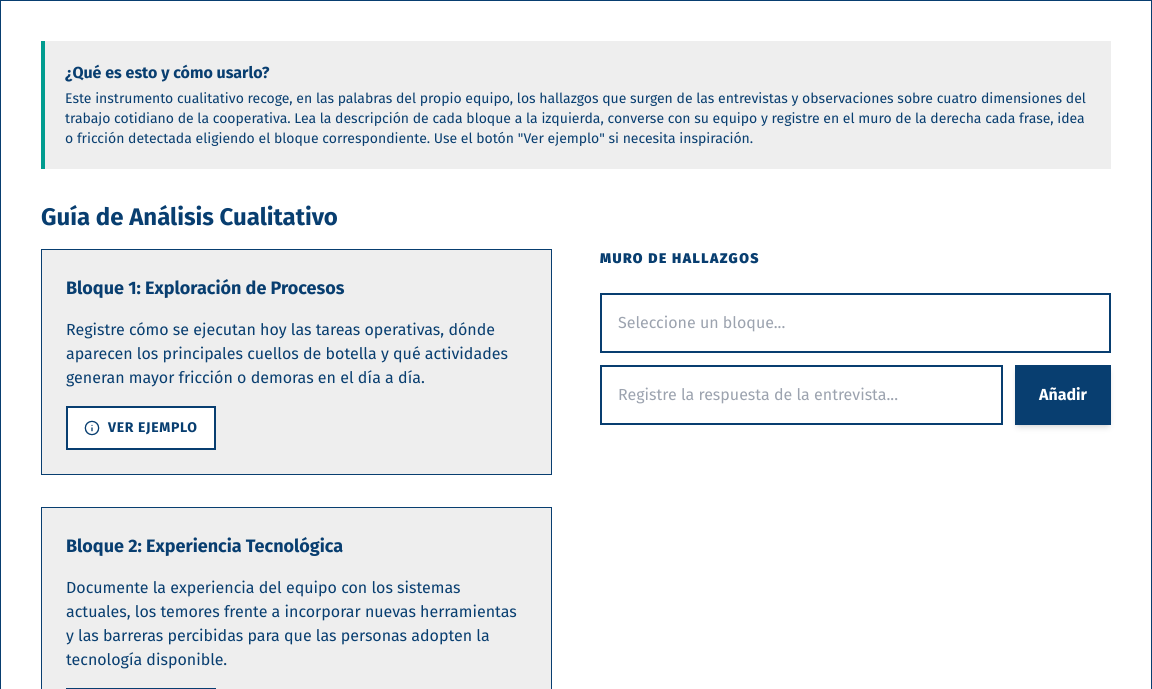
Scenario: TabAnalisis - muro de hallazgos con bloque › limpia el texto pero conserva el bloque para agregar más al mismo bloque
The width and height of the screenshot is (1152, 689).
Step 1. Click the dropdown labelled "Seleccione un bloque..." → {"x": 856, "y": 323}, box [600,293,1111,353]
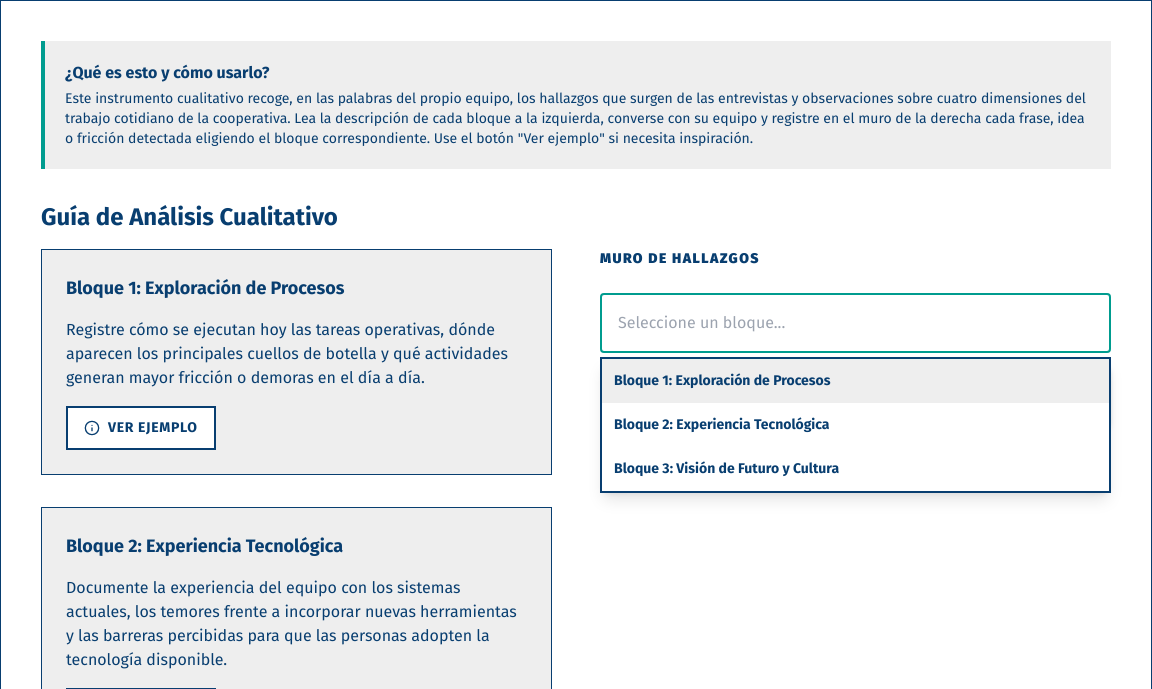
Step 2. Click the option "Bloque 3: Visión de Futuro y Cultura" → {"x": 727, "y": 468}, box [614,460,839,477]
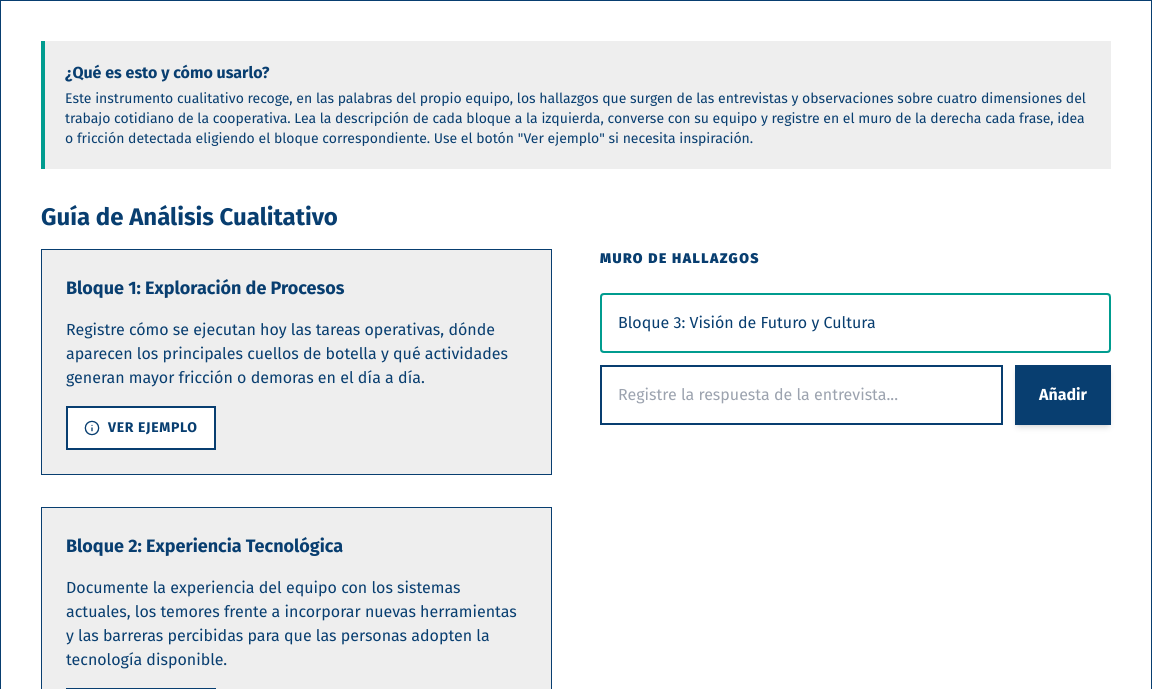
Step 3. Type "Uno" into the field with placeholder "Registre la respuesta de la entrevista..." → {"x": 802, "y": 395}, box [600,365,1003,425]
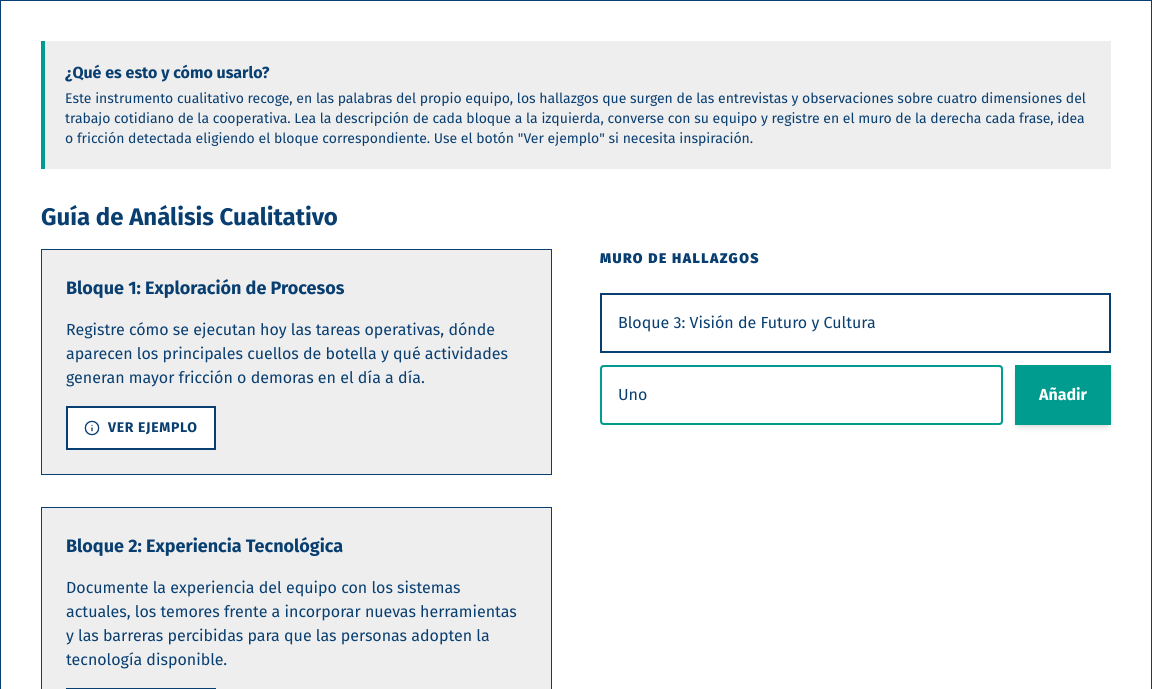
Step 4. Click the button "Añadir" → {"x": 1063, "y": 395}, box [1015,365,1111,425]
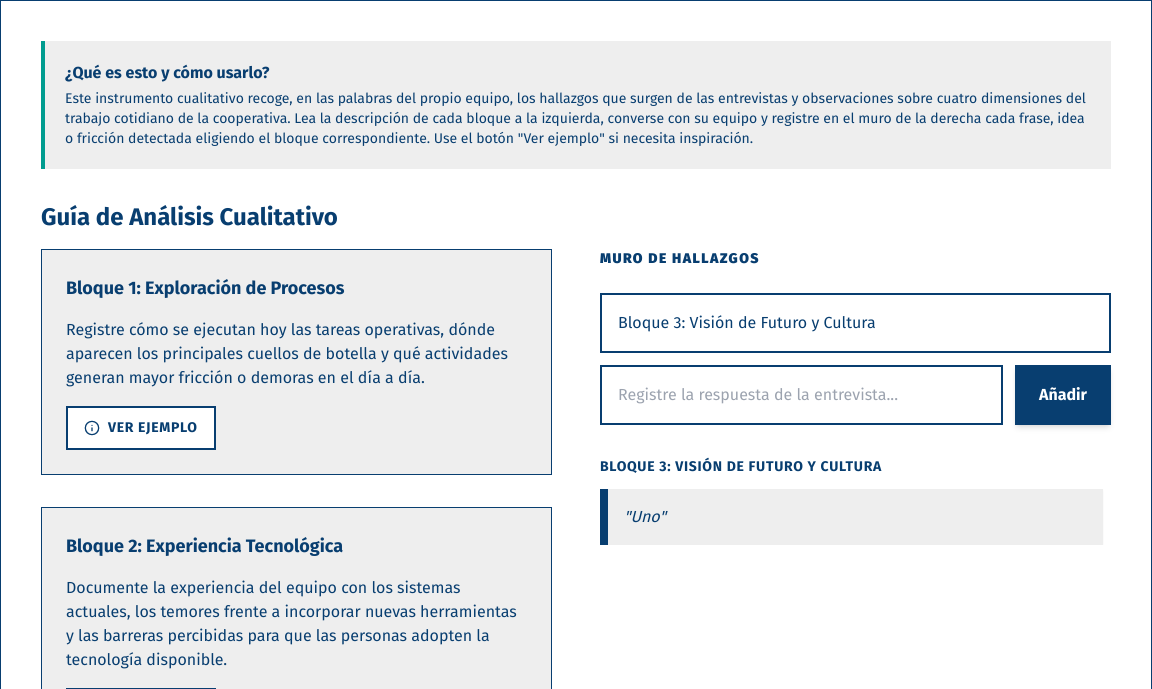
Expected: the field with placeholder "Registre la respuesta de la entrevista..." is empty
// Tipeando nuevo texto, sin reseleccionar bloque, se vuelve a habilitar
Step 5. Type "Dos" into the field with placeholder "Registre la respuesta de la entrevista..." → {"x": 802, "y": 395}, box [600,365,1003,425]
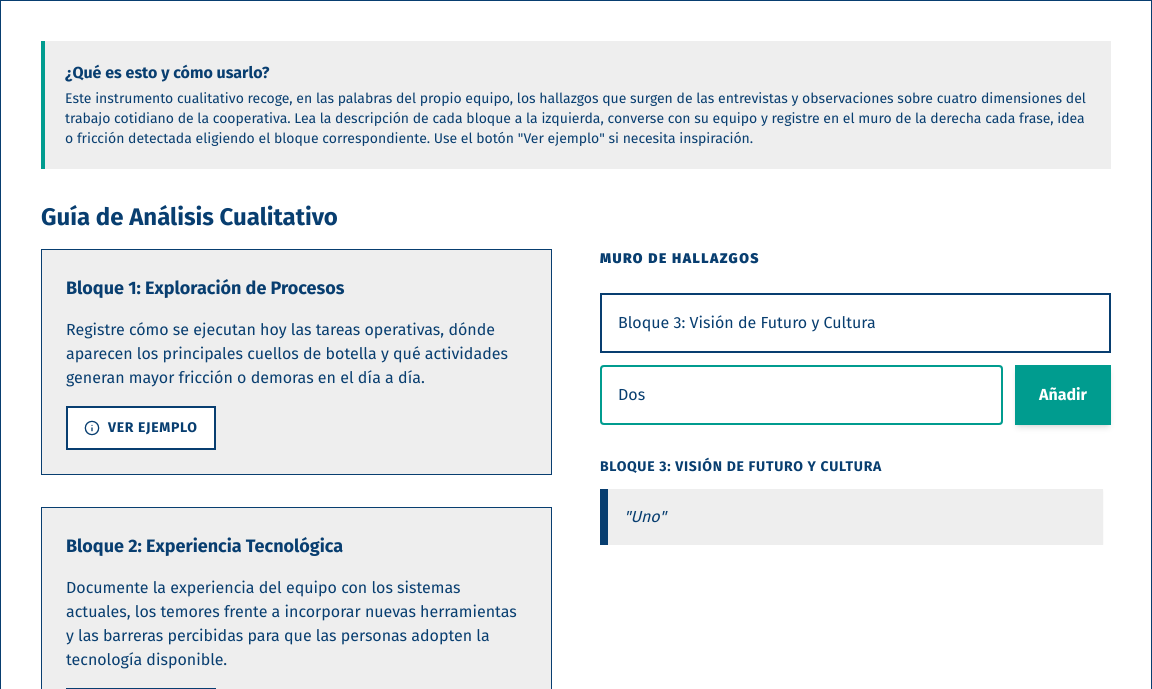
Expected: the button "Añadir" is enabled, [1015,365,1111,425]
